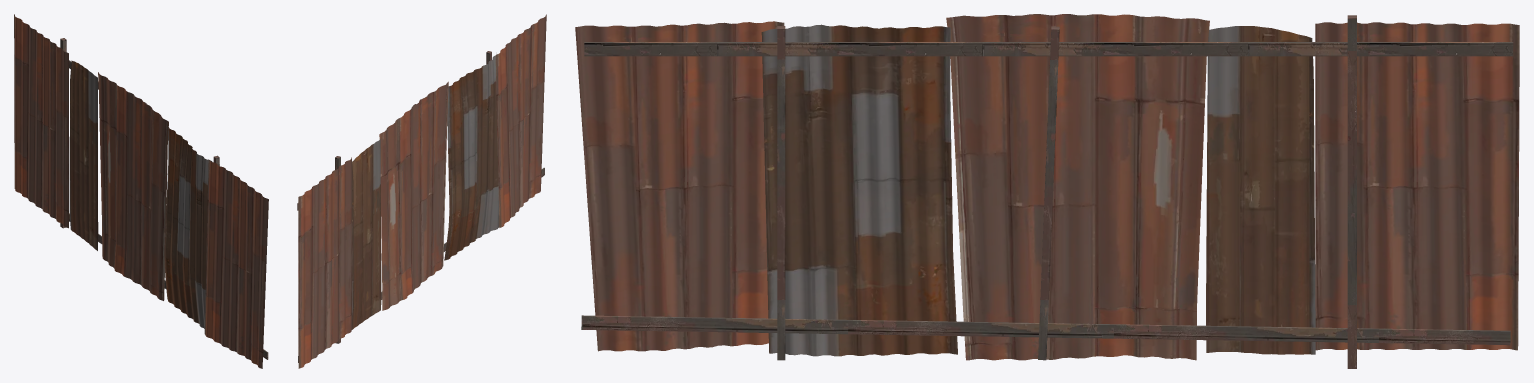
The picture shows the model from 3 angles, left to right: view 1: azimuth 30°, elevation 25°; view 2: azimuth 150°, elevation 25°; view 3: azimuth 270°, elevation 25°; orthographic projection. The views are drawn at different scales.
Parts seen in each view (by area): view 1: body0_model0_lod0_mesh1, body0_model0_lod0_mesh2, body0_model0_lod0_mesh0; view 2: body0_model0_lod0_mesh1, body0_model0_lod0_mesh2, body0_model0_lod0_mesh0; view 3: body0_model0_lod0_mesh1, body0_model0_lod0_mesh2, body0_model0_lod0_mesh0.
Boxes of the visible parts, x1,y1,x2,y2 form: body0_model0_lod0_mesh1: [14, 14, 268, 368]; body0_model0_lod0_mesh2: [69, 60, 219, 328]; body0_model0_lod0_mesh0: [60, 38, 268, 359]; body0_model0_lod0_mesh1: [298, 14, 546, 368]; body0_model0_lod0_mesh2: [352, 54, 499, 329]; body0_model0_lod0_mesh0: [297, 51, 544, 362]; body0_model0_lod0_mesh1: [575, 14, 1519, 360]; body0_model0_lod0_mesh2: [761, 24, 1315, 356]; body0_model0_lod0_mesh0: [581, 15, 1513, 368].
Bounding box in the file's own units: 30.61 × 373 × 911.
Materials: 3 (3 with a texture image).
